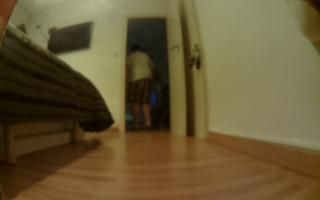person: (127, 41, 157, 131)
